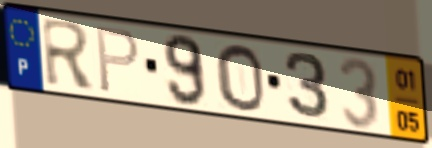3: (338, 53, 384, 134), (281, 50, 332, 122)
9: (160, 31, 209, 109)
O: (213, 41, 267, 114)
P: (94, 24, 142, 96)
R: (39, 16, 98, 92)
